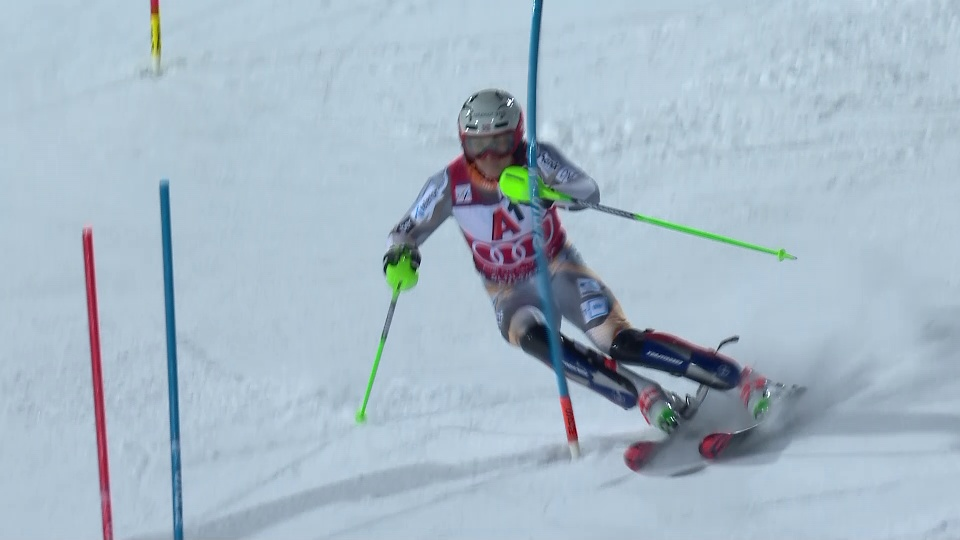a1: (488, 204, 530, 243)
audi: (482, 241, 535, 268)
